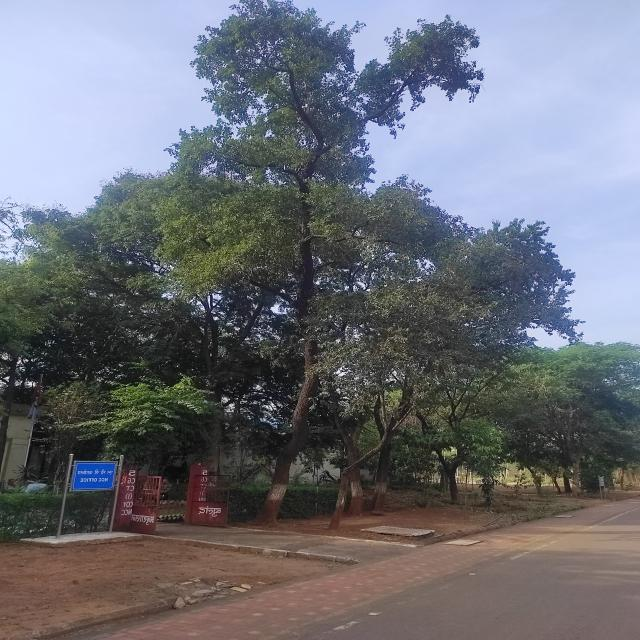Devakanchan tree: (175, 9, 517, 491)
